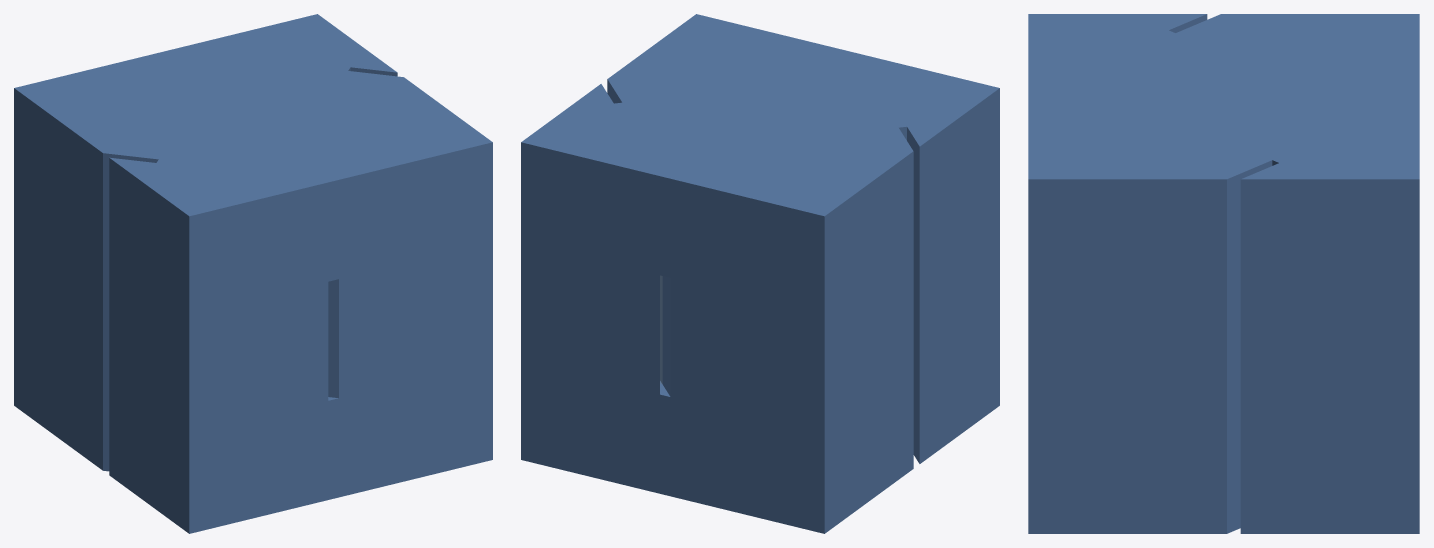
File: clay_cube.glb
The picture shows the model from 3 angles, left to right: view 1: azimuth 30°, elevation 25°; view 2: azimuth 150°, elevation 25°; view 3: azimuth 270°, elevation 25°; orthographic projection. The views are drawn at different scales.
Visible parts, largest first — view 1: Outer_Case; view 2: Outer_Case; view 3: Outer_Case.
Part boxes in pixels (x1,y1,x2,y2): Outer_Case: [14, 14, 492, 533]; Outer_Case: [521, 14, 999, 533]; Outer_Case: [1028, 14, 1419, 533].
Size of the model in its own units: 4 by 4 by 4.
